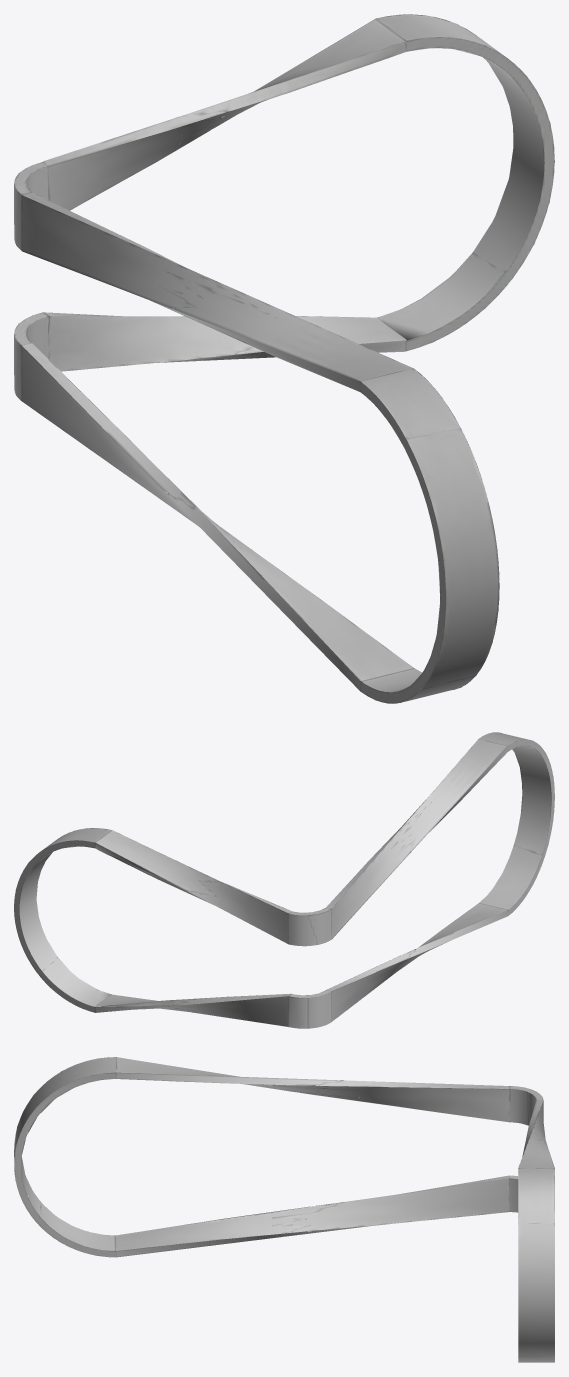
3 renders of one model, top to bottom at view 1: azimuth 30°, elevation 25°; view 2: azimuth 150°, elevation 25°; view 3: azimuth 270°, elevation 25°, orthographic. The views are drawn at different scales.
Parts seen in each view (by area): view 1: Correa_Mesh.1425; view 2: Correa_Mesh.1425; view 3: Correa_Mesh.1425.
Boxes of the visible parts, x1=… form: Correa_Mesh.1425: x1=14, y1=14, x2=554, y2=703; Correa_Mesh.1425: x1=14, y1=732, x2=554, y2=1028; Correa_Mesh.1425: x1=14, y1=1057, x2=554, y2=1362.
Bounding box in the file's own units: 0.2774 × 0.1524 × 0.4031.
1 material, 1 textured.
